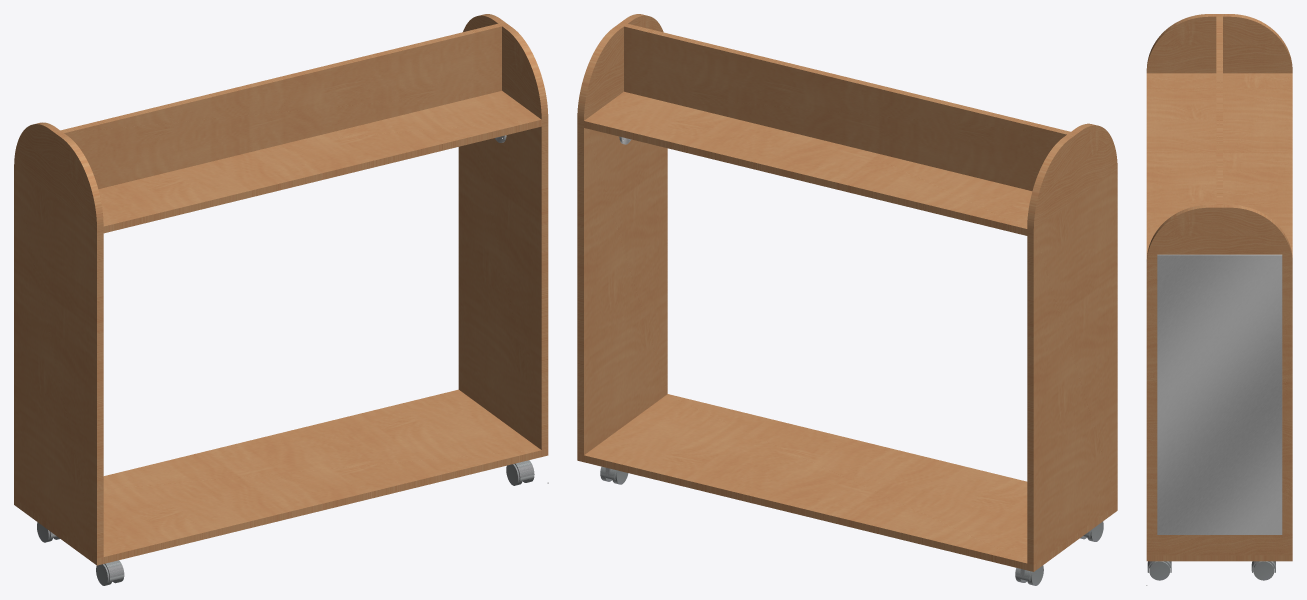
The model's file is garderob_igrovoj_s_zerkalom.glb.
The picture shows the model from 3 angles, left to right: view 1: azimuth 30°, elevation 25°; view 2: azimuth 150°, elevation 25°; view 3: azimuth 270°, elevation 25°; orthographic projection. The views are drawn at different scales.
Visible parts, largest first — view 1: Shape_IndexedFaceSet.004, Shape_IndexedFaceSet.005, Shape_IndexedFaceSet.006, Shape_IndexedFaceSet.002, Shape_IndexedFaceSet.003; view 2: Shape_IndexedFaceSet.004, Shape_IndexedFaceSet.005, Shape_IndexedFaceSet.006, Shape_IndexedFaceSet.002, Shape_IndexedFaceSet.003; view 3: Shape_IndexedFaceSet.001_NON, Shape_IndexedFaceSet.003, Shape_IndexedFaceSet.006, Shape_IndexedFaceSet.005, Shape_IndexedFaceSet.002, Shape_IndexedFaceSet.004, Shape_IndexedFaceSet.007_NON, Shape_IndexedFaceSet.013_NON.
Part boxes in pixels (bbox=[...]): Shape_IndexedFaceSet.004: bbox=[14, 389, 548, 565]; Shape_IndexedFaceSet.005: bbox=[14, 122, 103, 558]; Shape_IndexedFaceSet.006: bbox=[458, 14, 548, 449]; Shape_IndexedFaceSet.002: bbox=[60, 23, 501, 189]; Shape_IndexedFaceSet.003: bbox=[98, 91, 541, 233]; Shape_IndexedFaceSet.004: bbox=[577, 394, 1117, 571]; Shape_IndexedFaceSet.005: bbox=[1027, 123, 1117, 564]; Shape_IndexedFaceSet.006: bbox=[577, 14, 667, 455]; Shape_IndexedFaceSet.002: bbox=[624, 24, 1070, 190]; Shape_IndexedFaceSet.003: bbox=[584, 91, 1032, 235]; Shape_IndexedFaceSet.001_NON: bbox=[1157, 254, 1282, 534]; Shape_IndexedFaceSet.003: bbox=[1146, 73, 1292, 258]; Shape_IndexedFaceSet.006: bbox=[1146, 205, 1292, 555]; Shape_IndexedFaceSet.005: bbox=[1146, 14, 1292, 73]; Shape_IndexedFaceSet.002: bbox=[1216, 16, 1222, 204]; Shape_IndexedFaceSet.004: bbox=[1146, 555, 1292, 561]; Shape_IndexedFaceSet.007_NON: bbox=[1147, 561, 1171, 580]; Shape_IndexedFaceSet.013_NON: bbox=[1251, 561, 1275, 580].
Size of the model in its own units: 1104 by 1001 by 351.
19 materials, 17 textured.
